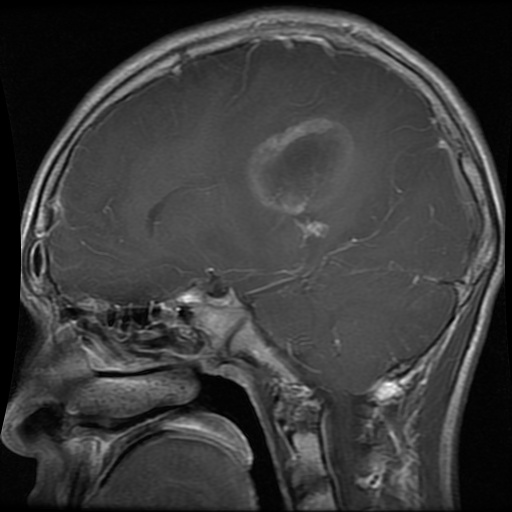glioma: (245, 117, 358, 247)
